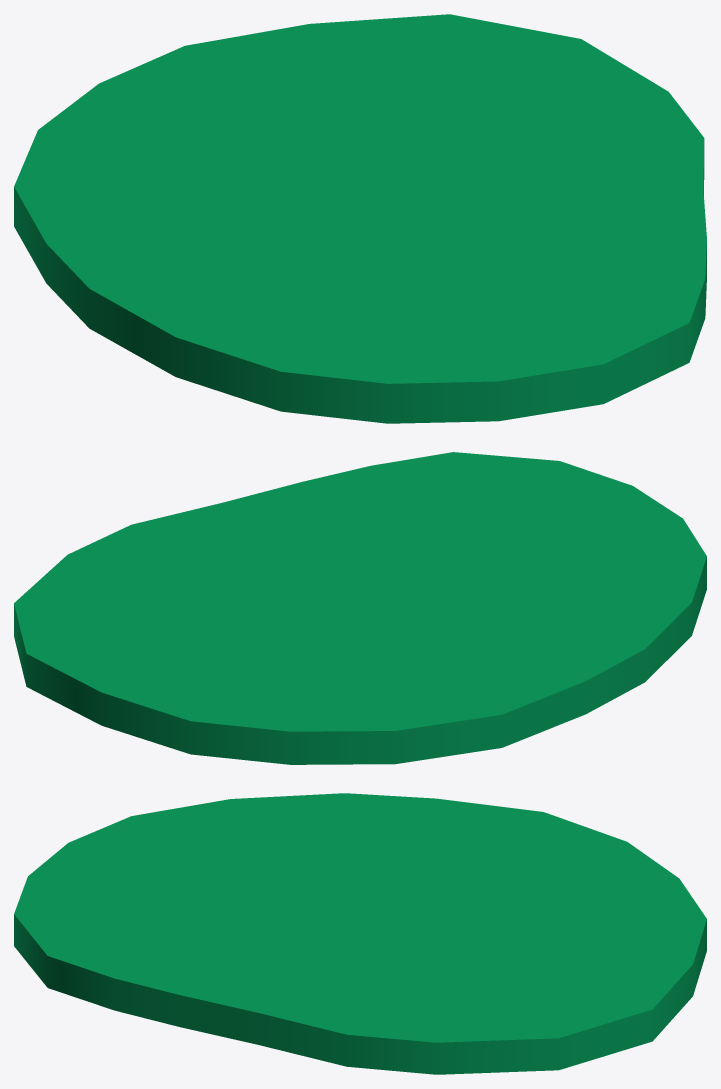
Rendered from Green03.fbx.
The picture shows the model from 3 angles, top to bottom: view 1: azimuth 30°, elevation 25°; view 2: azimuth 150°, elevation 25°; view 3: azimuth 270°, elevation 25°; orthographic projection. The views are drawn at different scales.
Visible parts, largest first — view 1: pCylinder1; view 2: pCylinder1; view 3: pCylinder1.
Boxes of the visible parts, x1,y1,x2,y2 form: pCylinder1: (14, 14, 706, 423); pCylinder1: (14, 452, 706, 764); pCylinder1: (14, 793, 706, 1074).
Bounding box in the file's own units: 13.37 × 0.8002 × 15.68.
